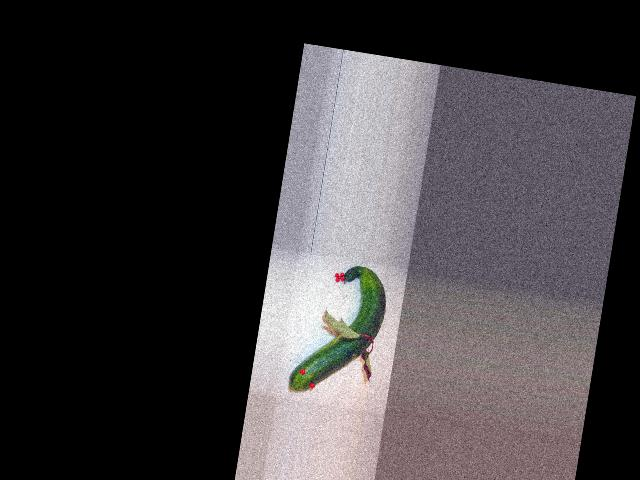cucumber: (287, 257, 391, 402)
